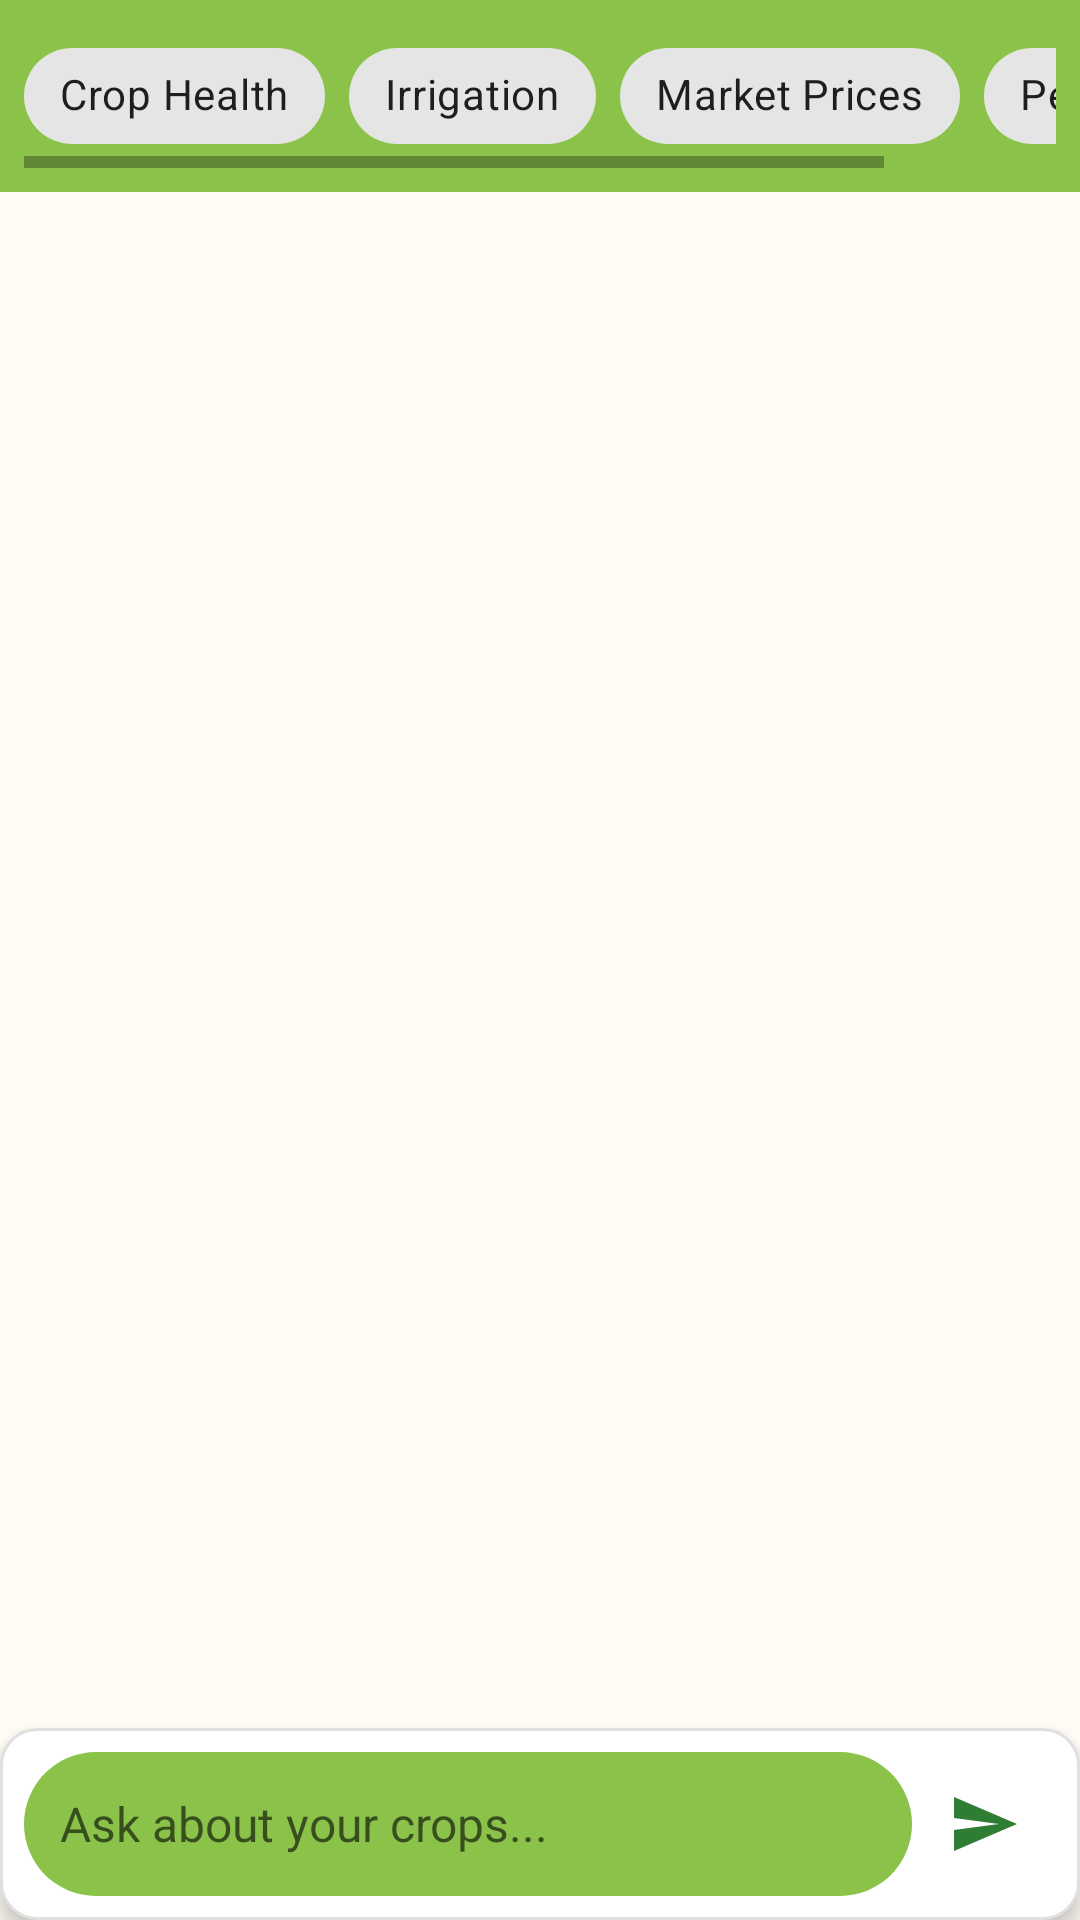

Locate icon controls on the screen. Image size 1080x1920, boxes as BBox(x1, y1, x2, y2).
send: BBox(954, 1797, 1017, 1851)
